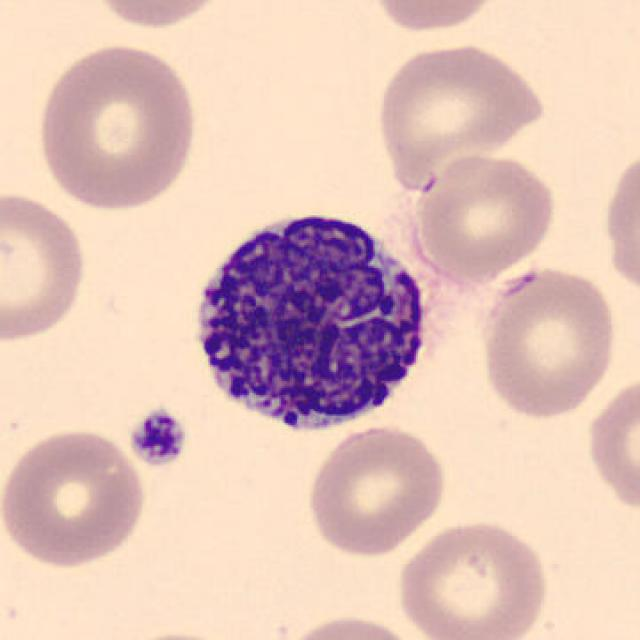Basophil: (178, 194, 453, 446)
Platelets: (126, 405, 190, 469)
RBC: (32, 39, 203, 213), (370, 37, 548, 178), (475, 263, 622, 423), (0, 423, 151, 571), (409, 148, 560, 284), (302, 421, 450, 559), (393, 516, 553, 640), (0, 187, 91, 347), (583, 369, 638, 520), (599, 141, 640, 309), (80, 0, 234, 33), (366, 0, 508, 35), (274, 612, 426, 640), (98, 626, 258, 640)
